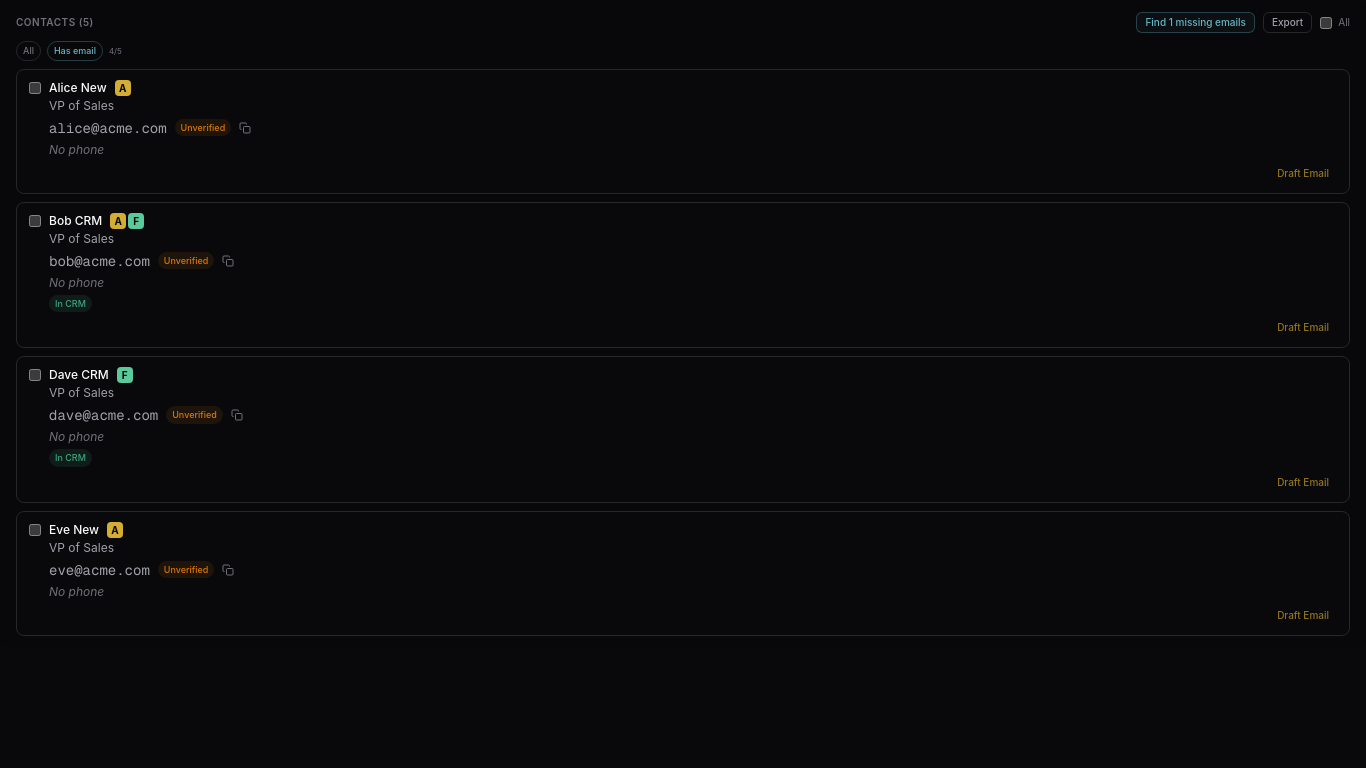
Scenario: DossierContacts — Source filter & email-only filter › source filter button cycles: All -> Freshsales -> New only -> All
The image size is (1366, 768).
Click the button "All". click: x=28, y=51
box: [16, 41, 41, 60]
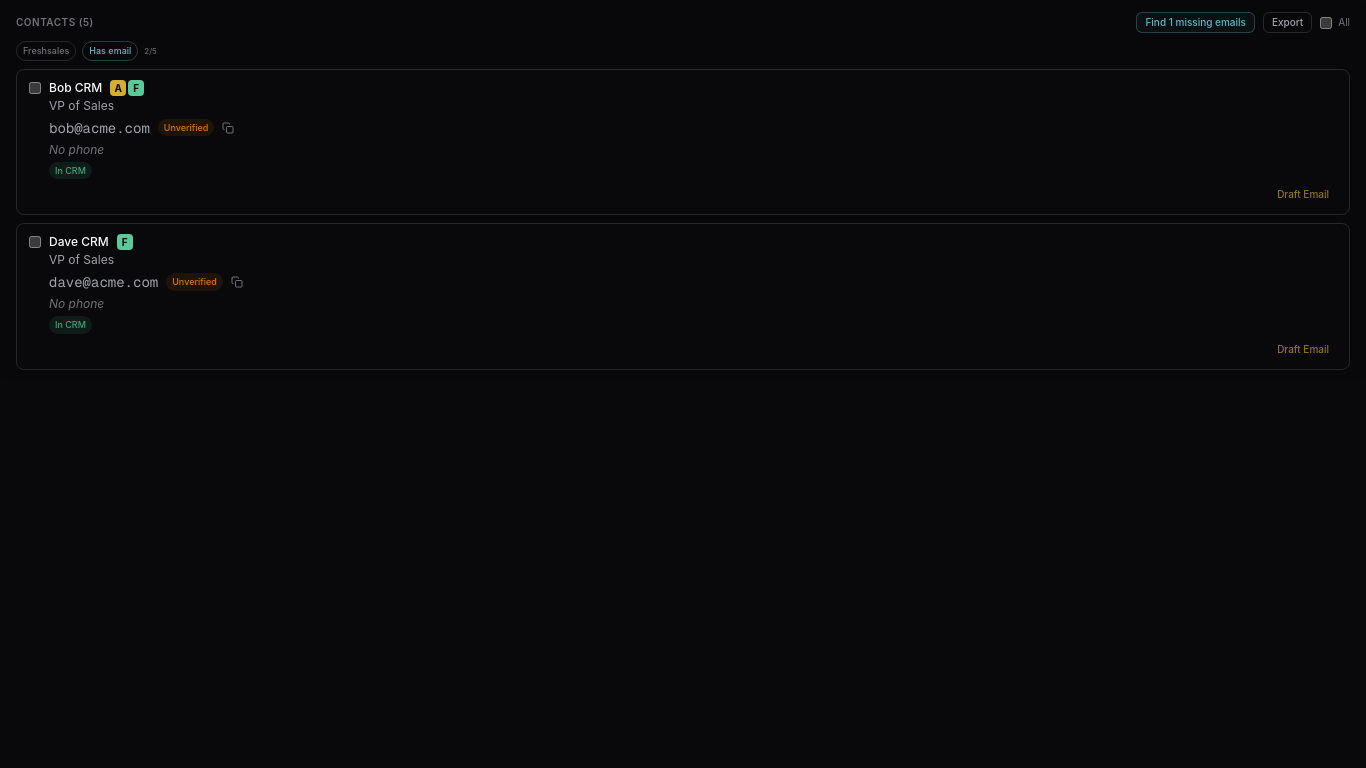
Expected: the button "Freshsales" is shown
Click the button "Freshsales". click: x=46, y=51
box: [16, 41, 76, 60]
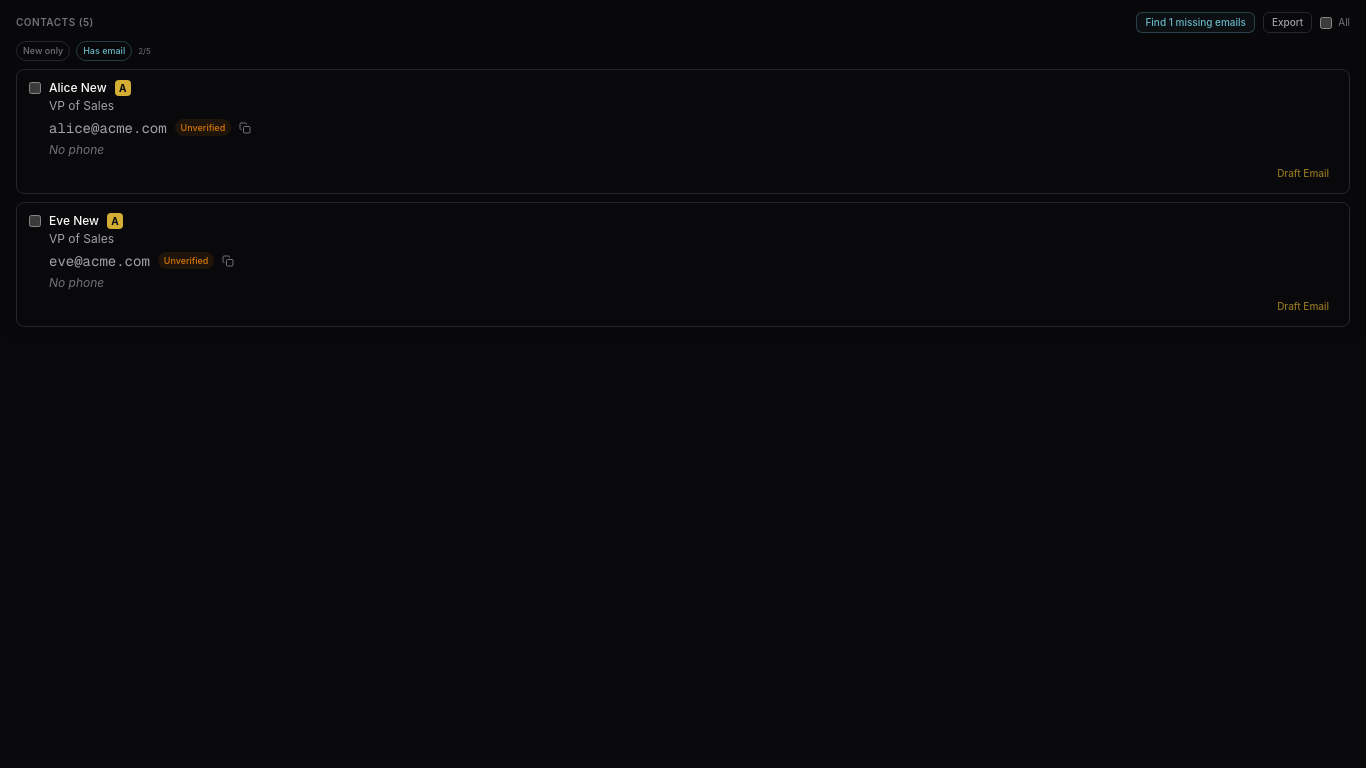
Expected: the button "New only" is shown
Click the button "New only". click: x=43, y=51
box: [16, 41, 70, 60]
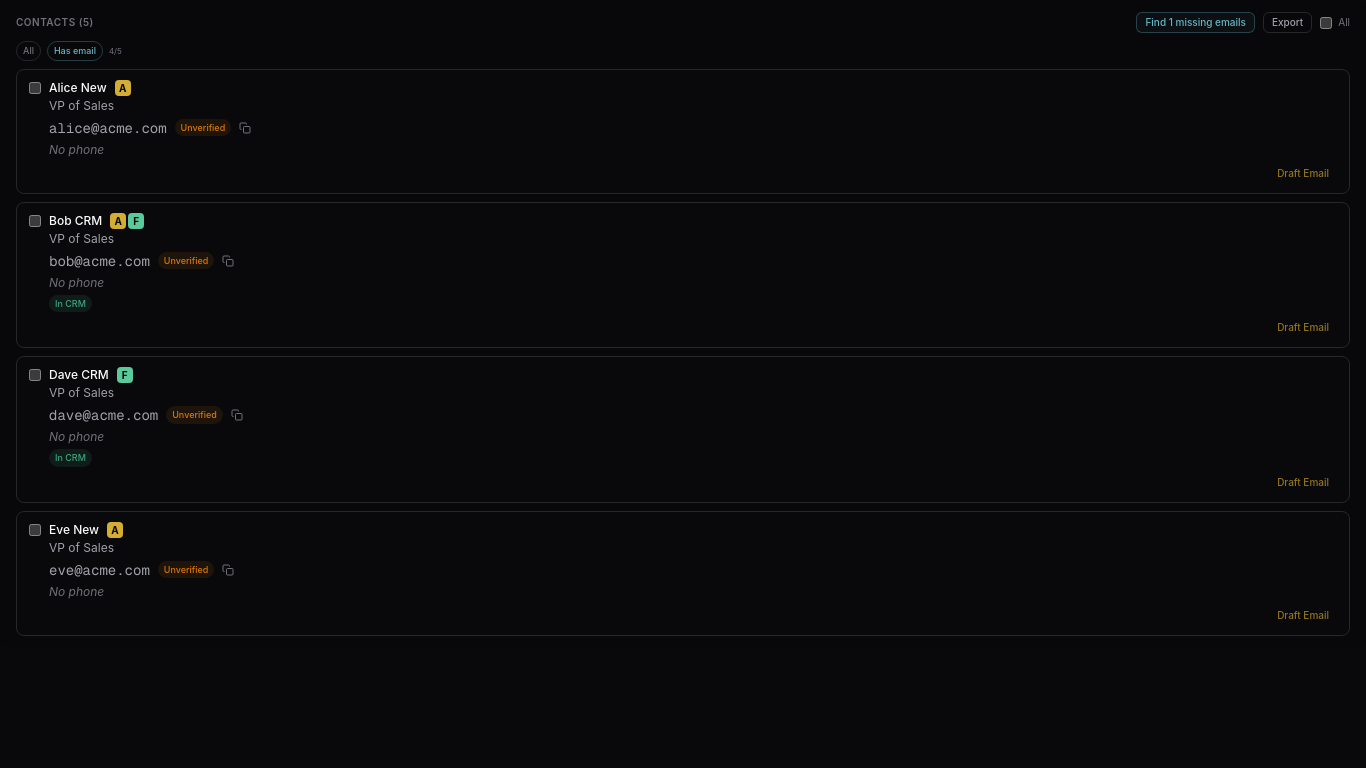
Expected: the button "All" is shown, [16, 41, 41, 60]
